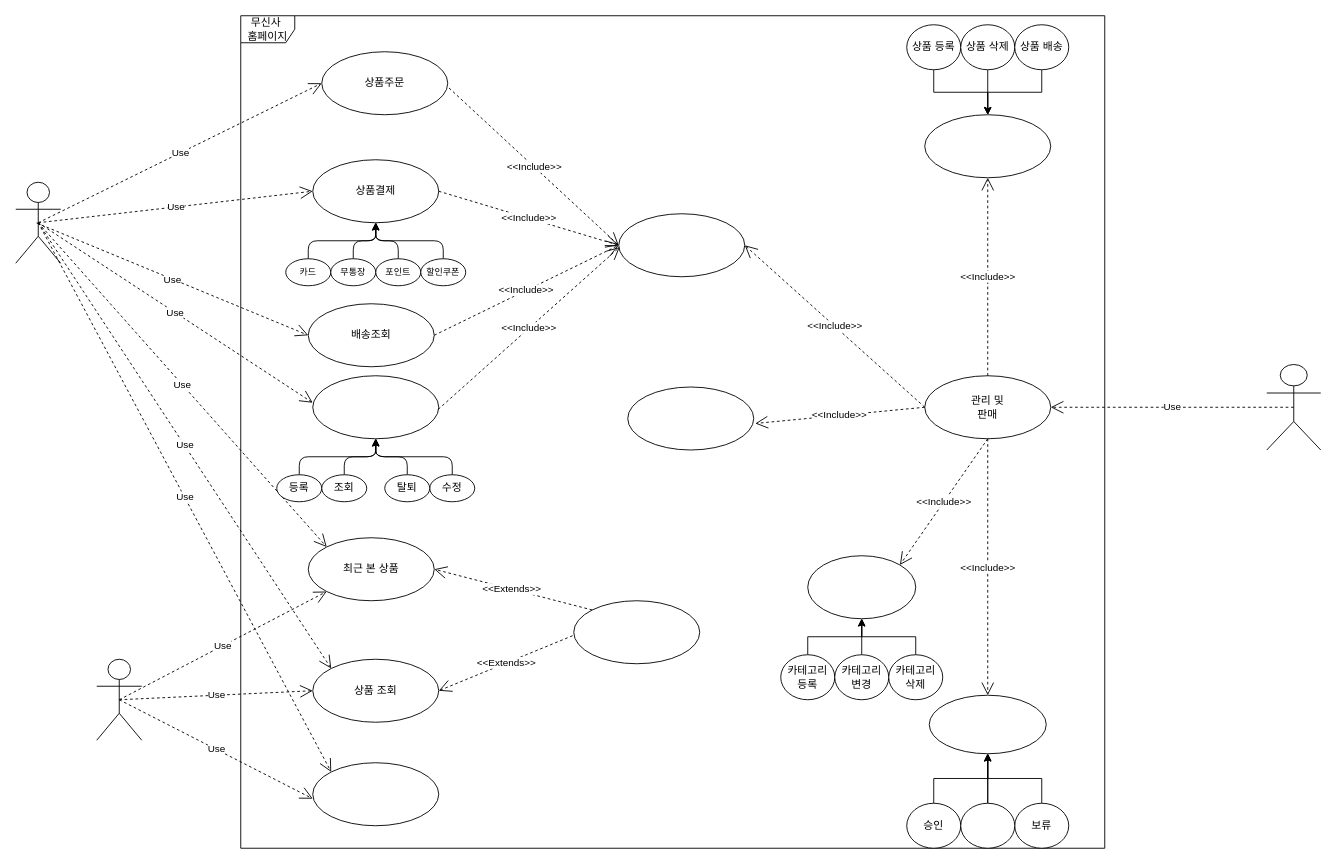
Some shapes in this 1337 by 864 pixel diagram are drawn without their labels. The shapes that lost their labels are listed below. From the top down, each one's centre as x and y in pixels, then its label:
[987,146]: 상품 관리
[38,222]: 회원
[681,245]: 인증
[375,407]: 마이페이지
[690,418]: 홈페이지 관리
[1293,407]: 관리자 및 판매자
[861,587]: 카테고리 관리
[636,632]: 상품상세조회
[119,699]: 비회원
[987,724]: 회원 관리
[375,794]: 고객센터
[987,825]: 철회
